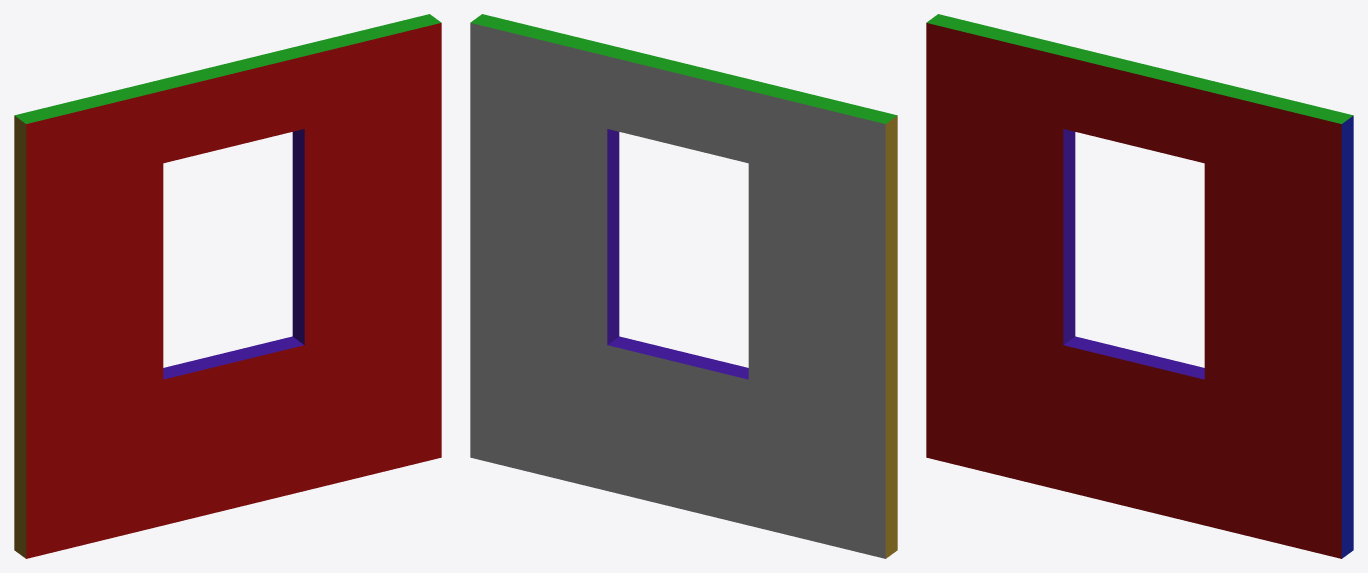
Rendered from Wall_Window_01a.fbx.
3 renders of one model, left to right at view 1: azimuth 30°, elevation 25°; view 2: azimuth 150°, elevation 25°; view 3: azimuth 330°, elevation 25°, orthographic.
Visible parts, largest first — view 1: Wall_Window_01a; view 2: Wall_Window_01a; view 3: Wall_Window_01a.
Boxes of the visible parts, box(x1,y1,x2,y2) form: Wall_Window_01a: box(14, 14, 441, 558); Wall_Window_01a: box(470, 14, 897, 558); Wall_Window_01a: box(926, 14, 1353, 558).
Size of the model in its own units: 3 by 0.15 by 3.
